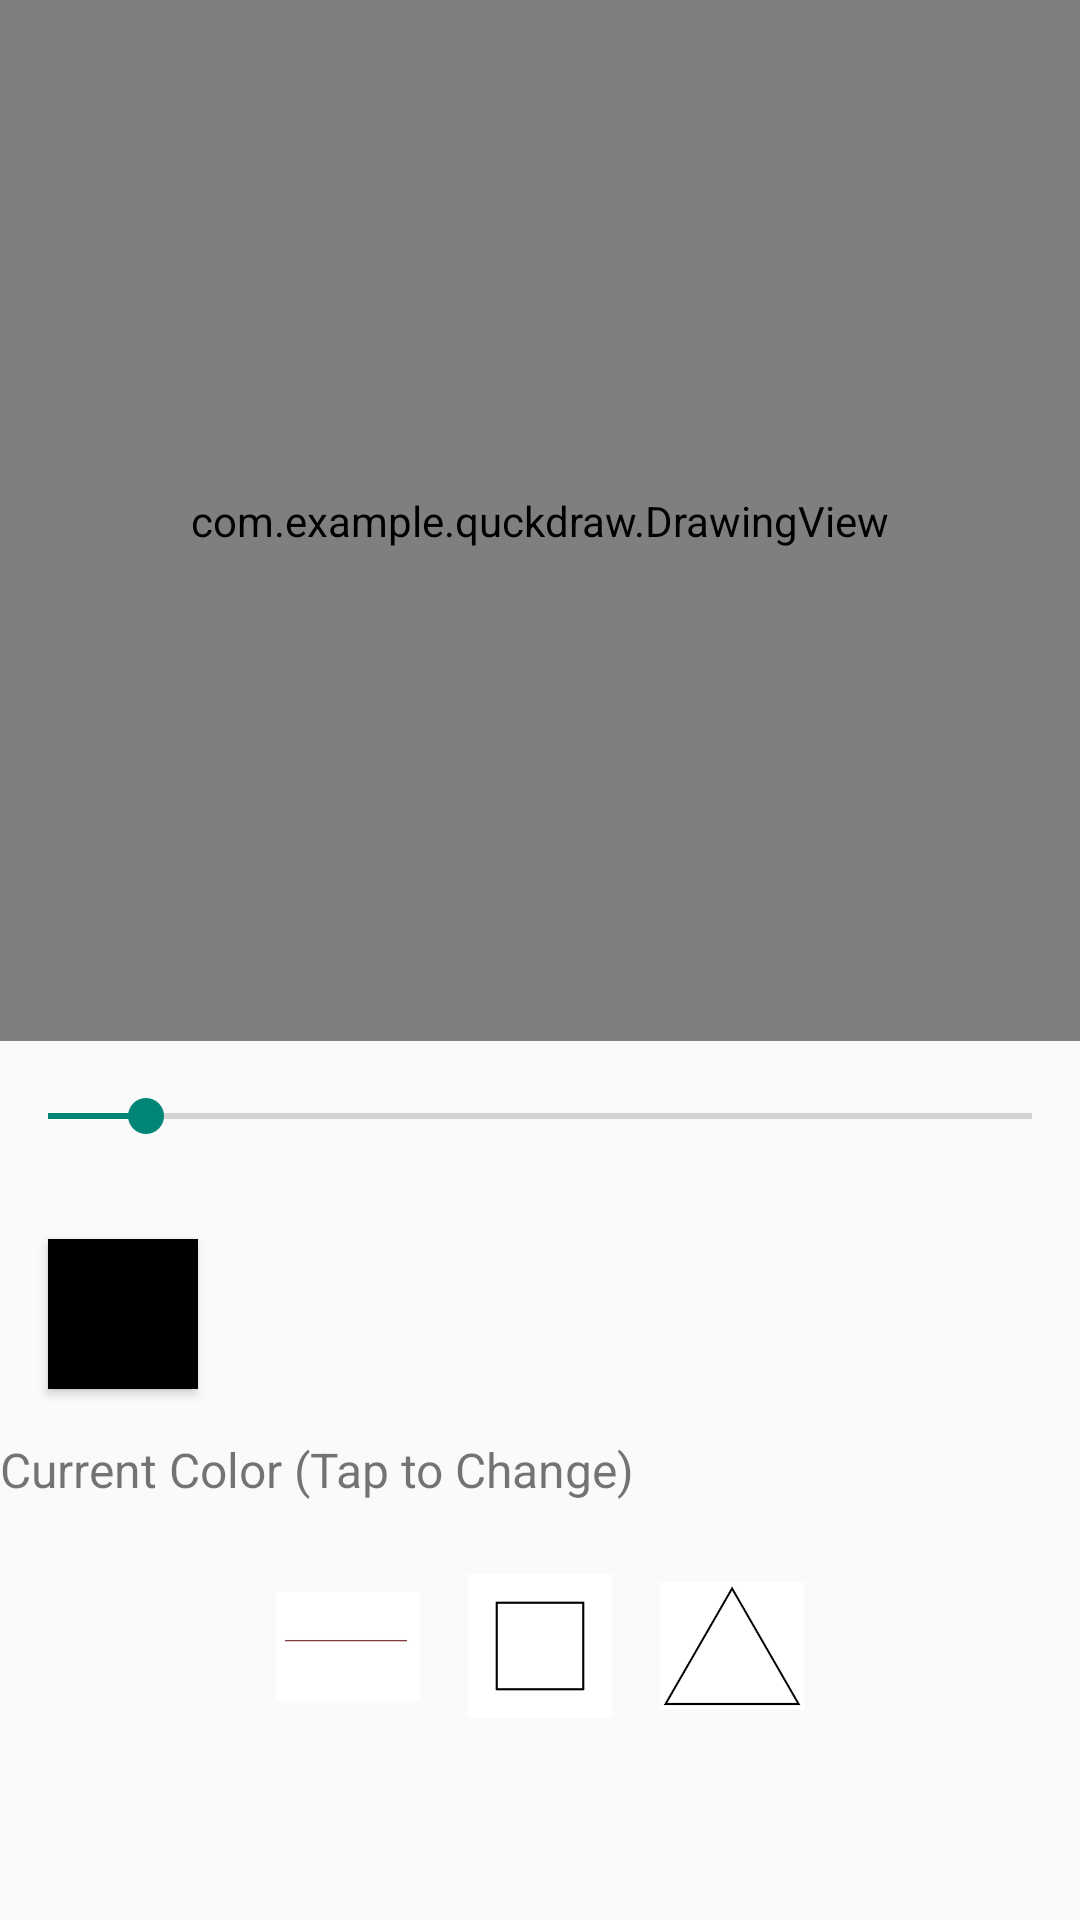

Icon click points for this 1080x1920 phone screenshot, format (x,y):
Square: (540,1646)
Triangle: (732,1646)
